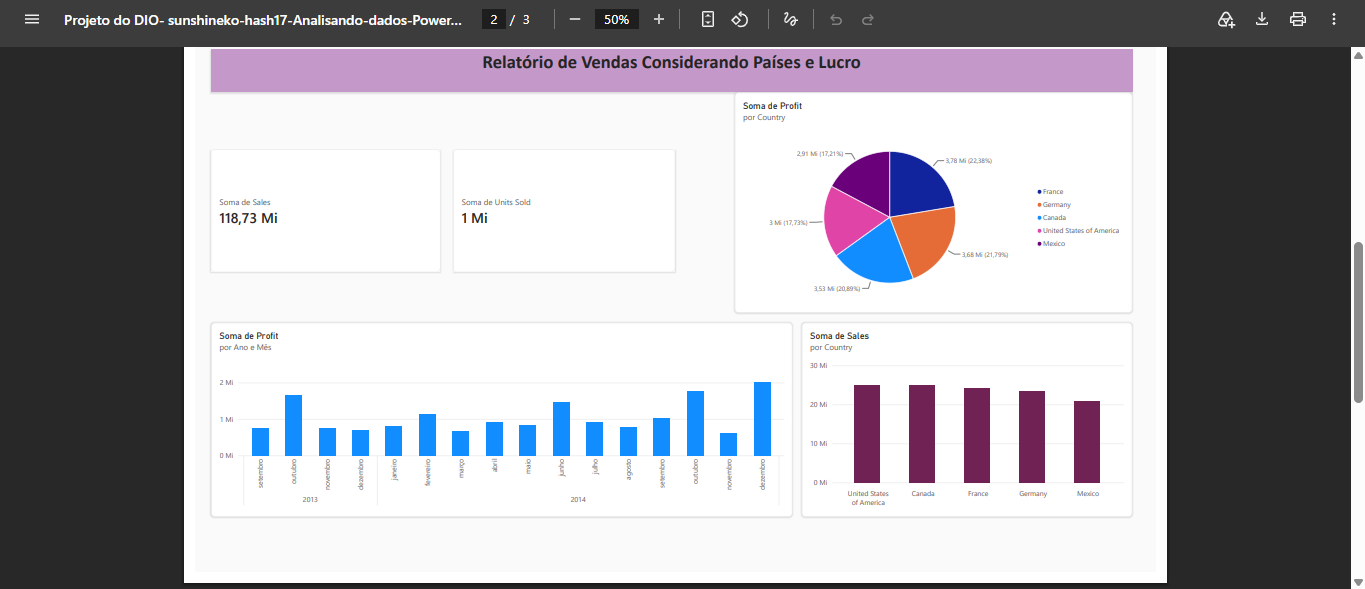

This screenshot's page, from the dashboard's own definition file:
{"tool":"powerbi","page":{"name":"Relatório de Vendas Considerando Países e Lucro","canvas":[1920,1080],"ordinal":1},"visuals":[{"type":"textbox","box":[32.4,34.6,1840.3,86.4],"z":0},{"type":"cardVisual","fields":{"Data":["Sum(financials. Sales)"]},"box":[32.4,235.4,457.9,244.1],"z":1000},{"type":"cardVisual","fields":{"Data":["Sum(financials.Units Sold)"]},"box":[516.2,235.4,442.8,244.1],"z":2000},{"type":"pieChart","fields":{"Category":["financials.Country"],"Y":["Sum(financials.Profit)"]},"box":[1077.8,121,794.9,440.6],"z":3000},{"type":"clusteredColumnChart","fields":{"Category":["financials.Date.Variation.Hierarquia de datas.Ano","financials.Date.Variation.Hierarquia de datas.Mês"],"Y":["Sum(financials.Profit)"]},"box":[32.4,581,1162.1,388.8],"z":4000},{"type":"clusteredColumnChart","fields":{"Category":["financials.Country"],"Y":["Sum(financials. Sales)"]},"box":[1211.8,581,661,388.8],"z":5000}]}

Visuals, with their boxes on the page's 1920x1080 design canvas (x1, y1, x2, y2). These are canvas units, not pixel positions in the 1365x589 screenshot, which may show the page scaled, cropped or inside an application window:
textbox: select_region(32, 35, 1873, 121)
cardVisual - Sum(financials. Sales): select_region(32, 235, 490, 480)
cardVisual - Sum(financials.Units Sold): select_region(516, 235, 959, 480)
pieChart - financials.Country x Sum(financials.Profit): select_region(1078, 121, 1873, 562)
clusteredColumnChart - financials.Date.Variation.Hierarquia de datas.Ano x financials.Date.Variation.Hierarquia de datas.Mês: select_region(32, 581, 1194, 970)
clusteredColumnChart - financials.Country x Sum(financials. Sales): select_region(1212, 581, 1873, 970)
